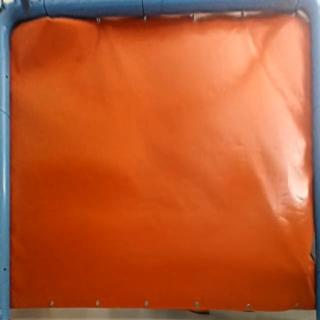Hit-hRxx: (300, 268, 312, 280)
